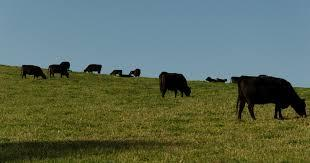cow: (235, 74, 307, 120), (158, 71, 193, 98), (20, 64, 47, 80), (47, 64, 71, 79), (83, 63, 103, 75), (205, 76, 228, 84), (129, 68, 141, 77), (60, 61, 71, 70), (109, 69, 123, 76), (230, 75, 239, 84)
